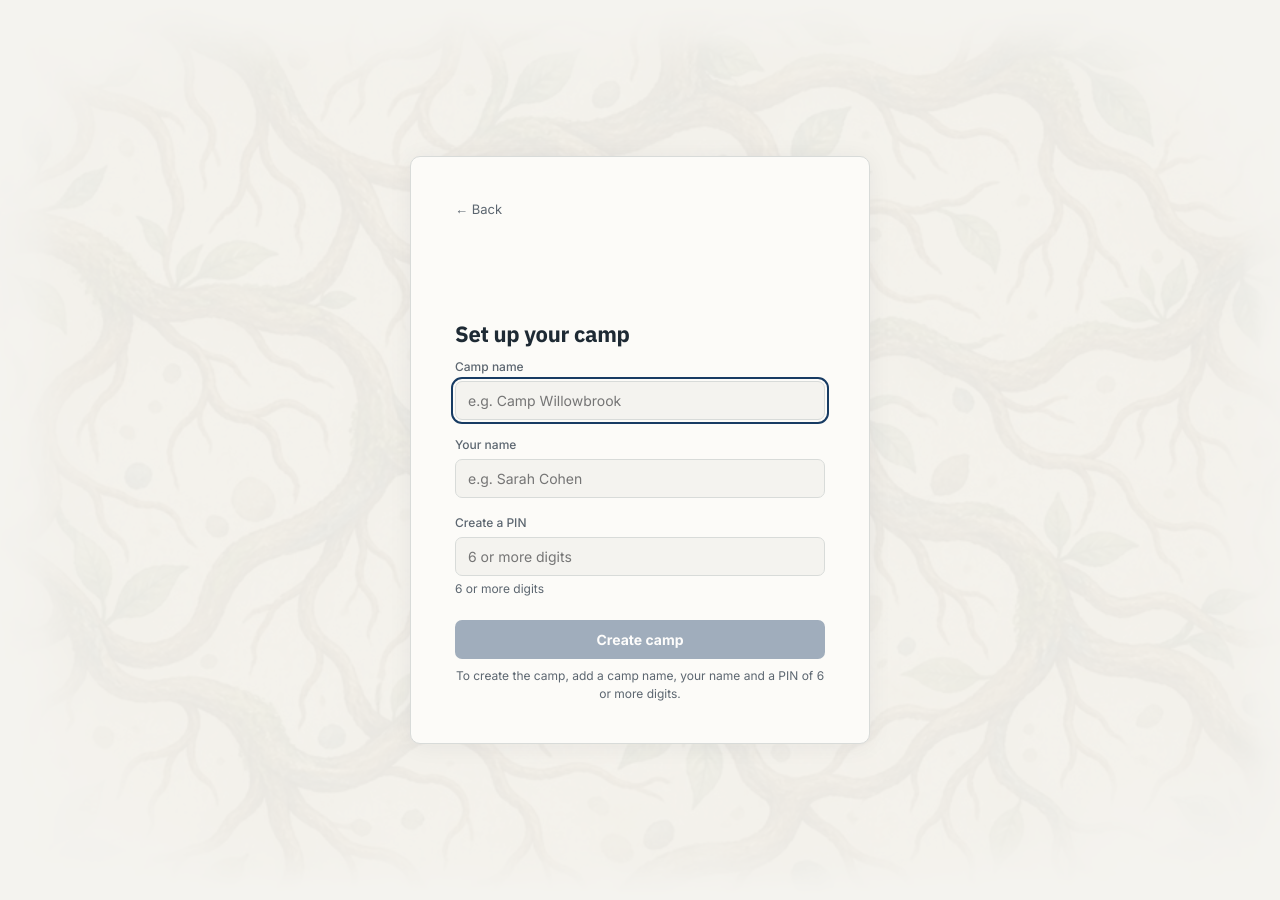
Test: CampBootstrapScreen guidance › says why Create is disabled, and stops once everything is filled in
expect the button "Create camp" is disabled: met, box [455, 620, 825, 659]
expect the text "To create the camp, add a camp name, your name and a PIN of 6 or more digits." is shown: met, box [455, 667, 825, 703]
Type "Pines" into the field labelled "Camp name".
click(640, 400); type("Pines")  # box [455, 381, 825, 420]
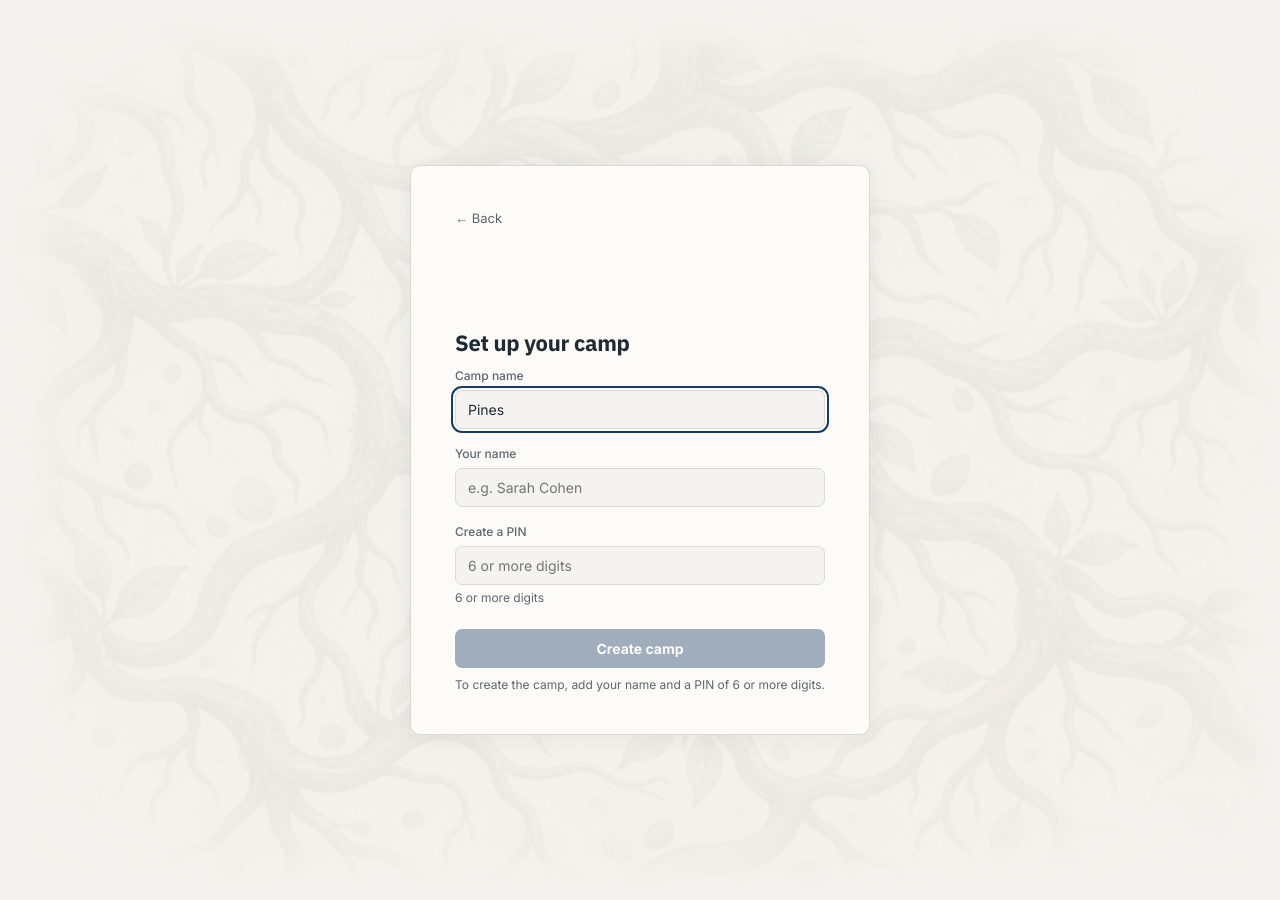
Type "Sam" into the field labelled "Your name".
click(640, 488); type("Sam")  # box [455, 468, 825, 507]
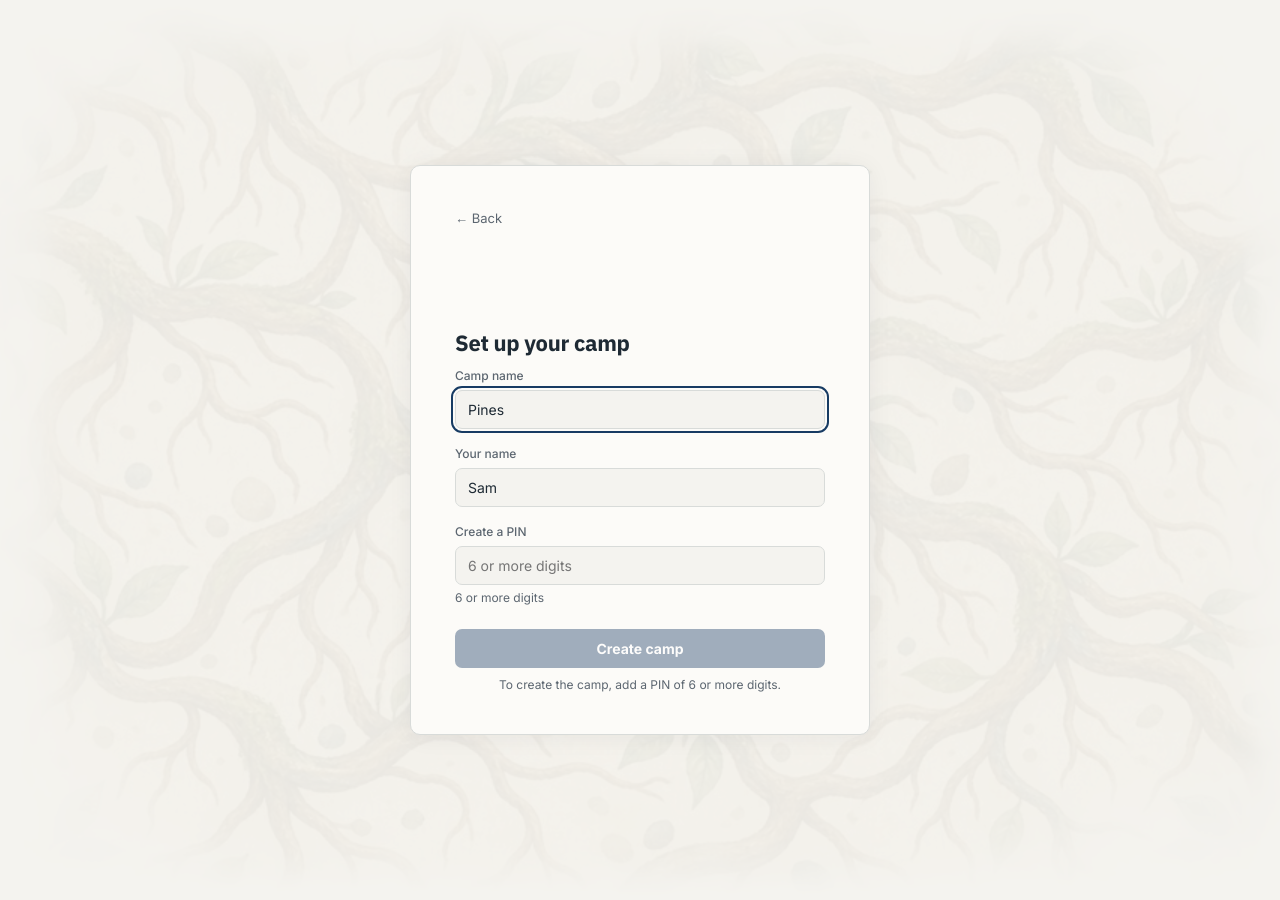
Type "123" into the password field labelled "Create a PIN".
click(640, 566); type("123")  # box [455, 546, 825, 585]
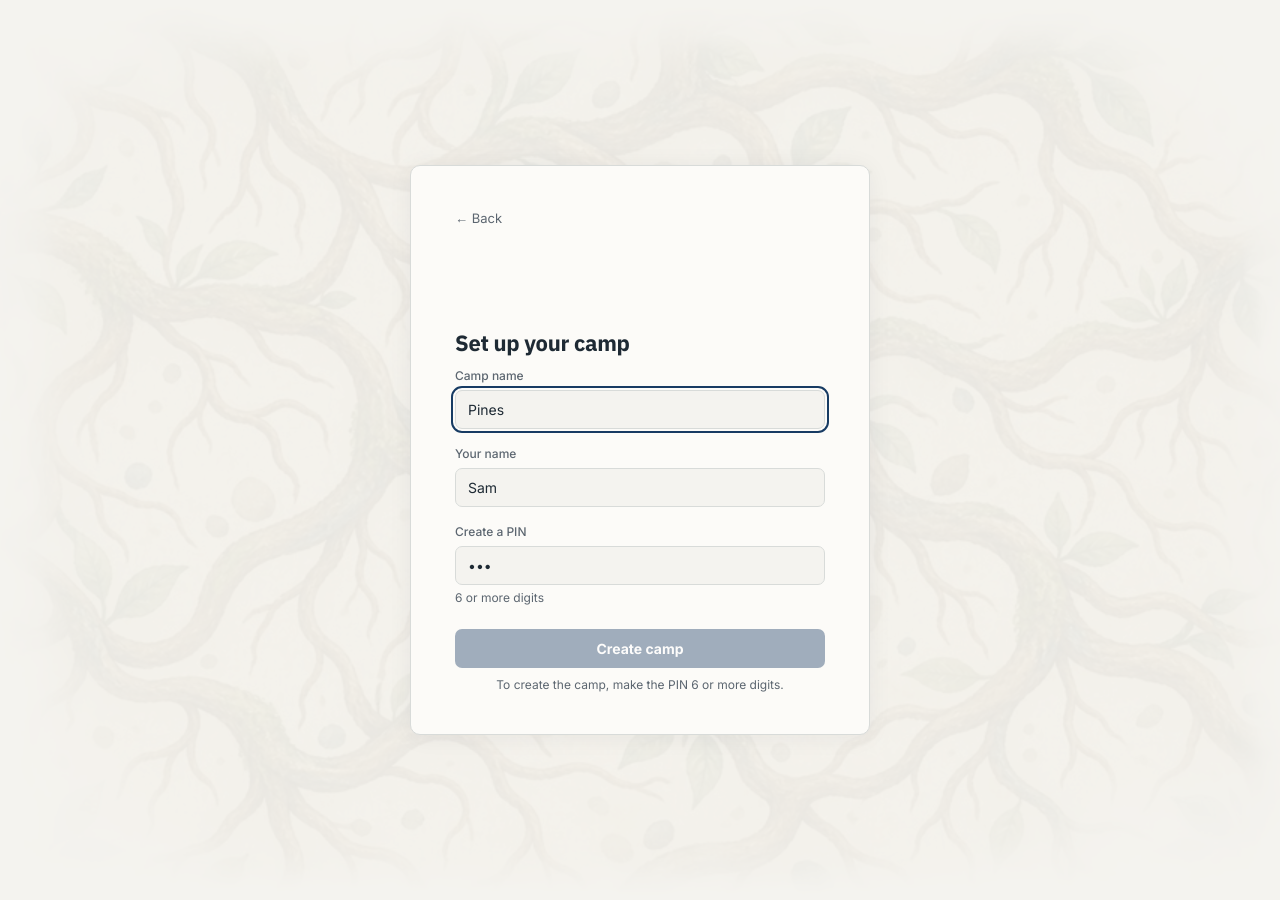
expect the text "To create the camp, make the PIN 6 or more digits." is shown: met, box [496, 677, 784, 692]
Type "123456" into the password field labelled "Create a PIN".
click(640, 566); type("123456")  # box [455, 546, 825, 585]
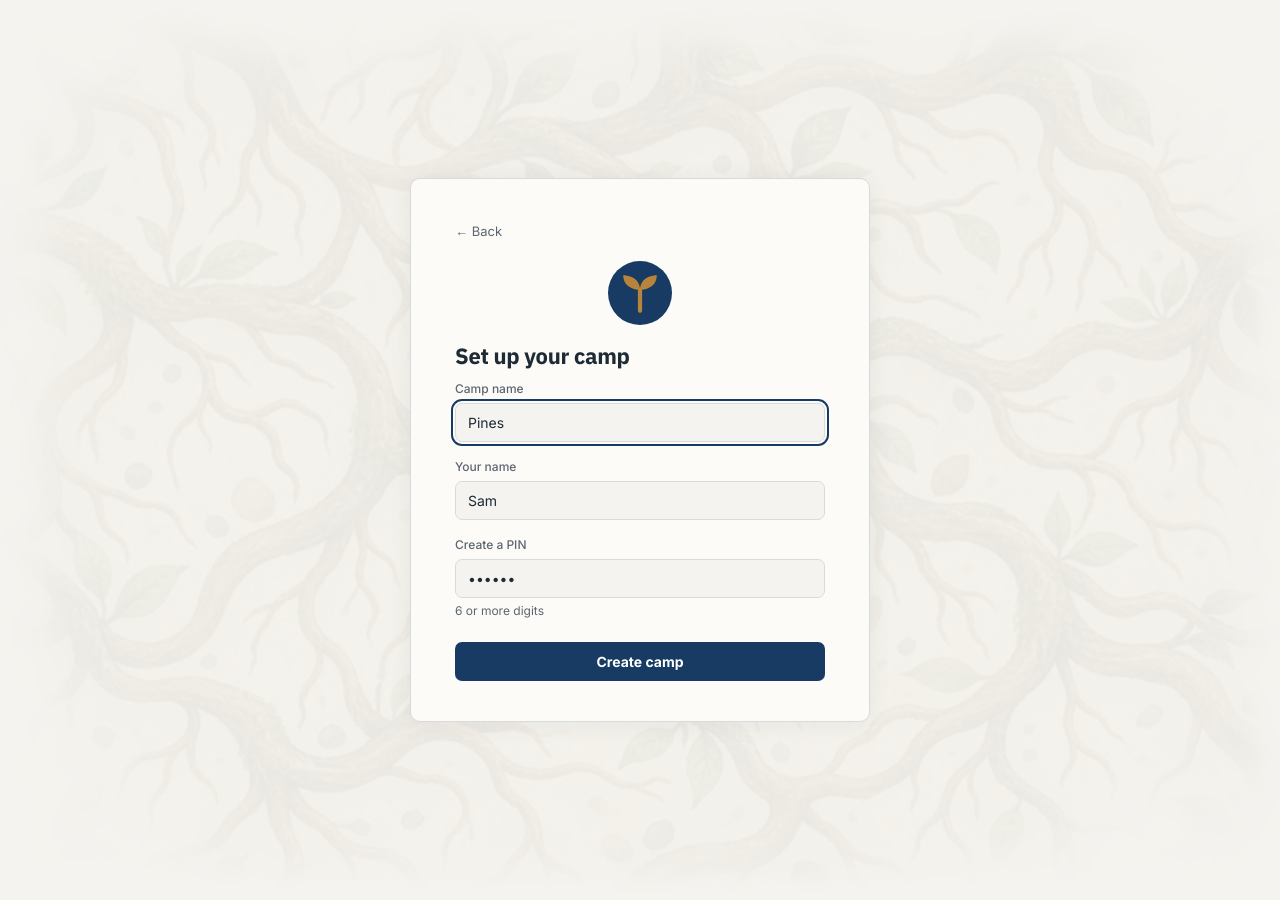
expect the button "Create camp" is enabled: met, box [455, 642, 825, 681]
expect the text "To create the camp" is gone: met
